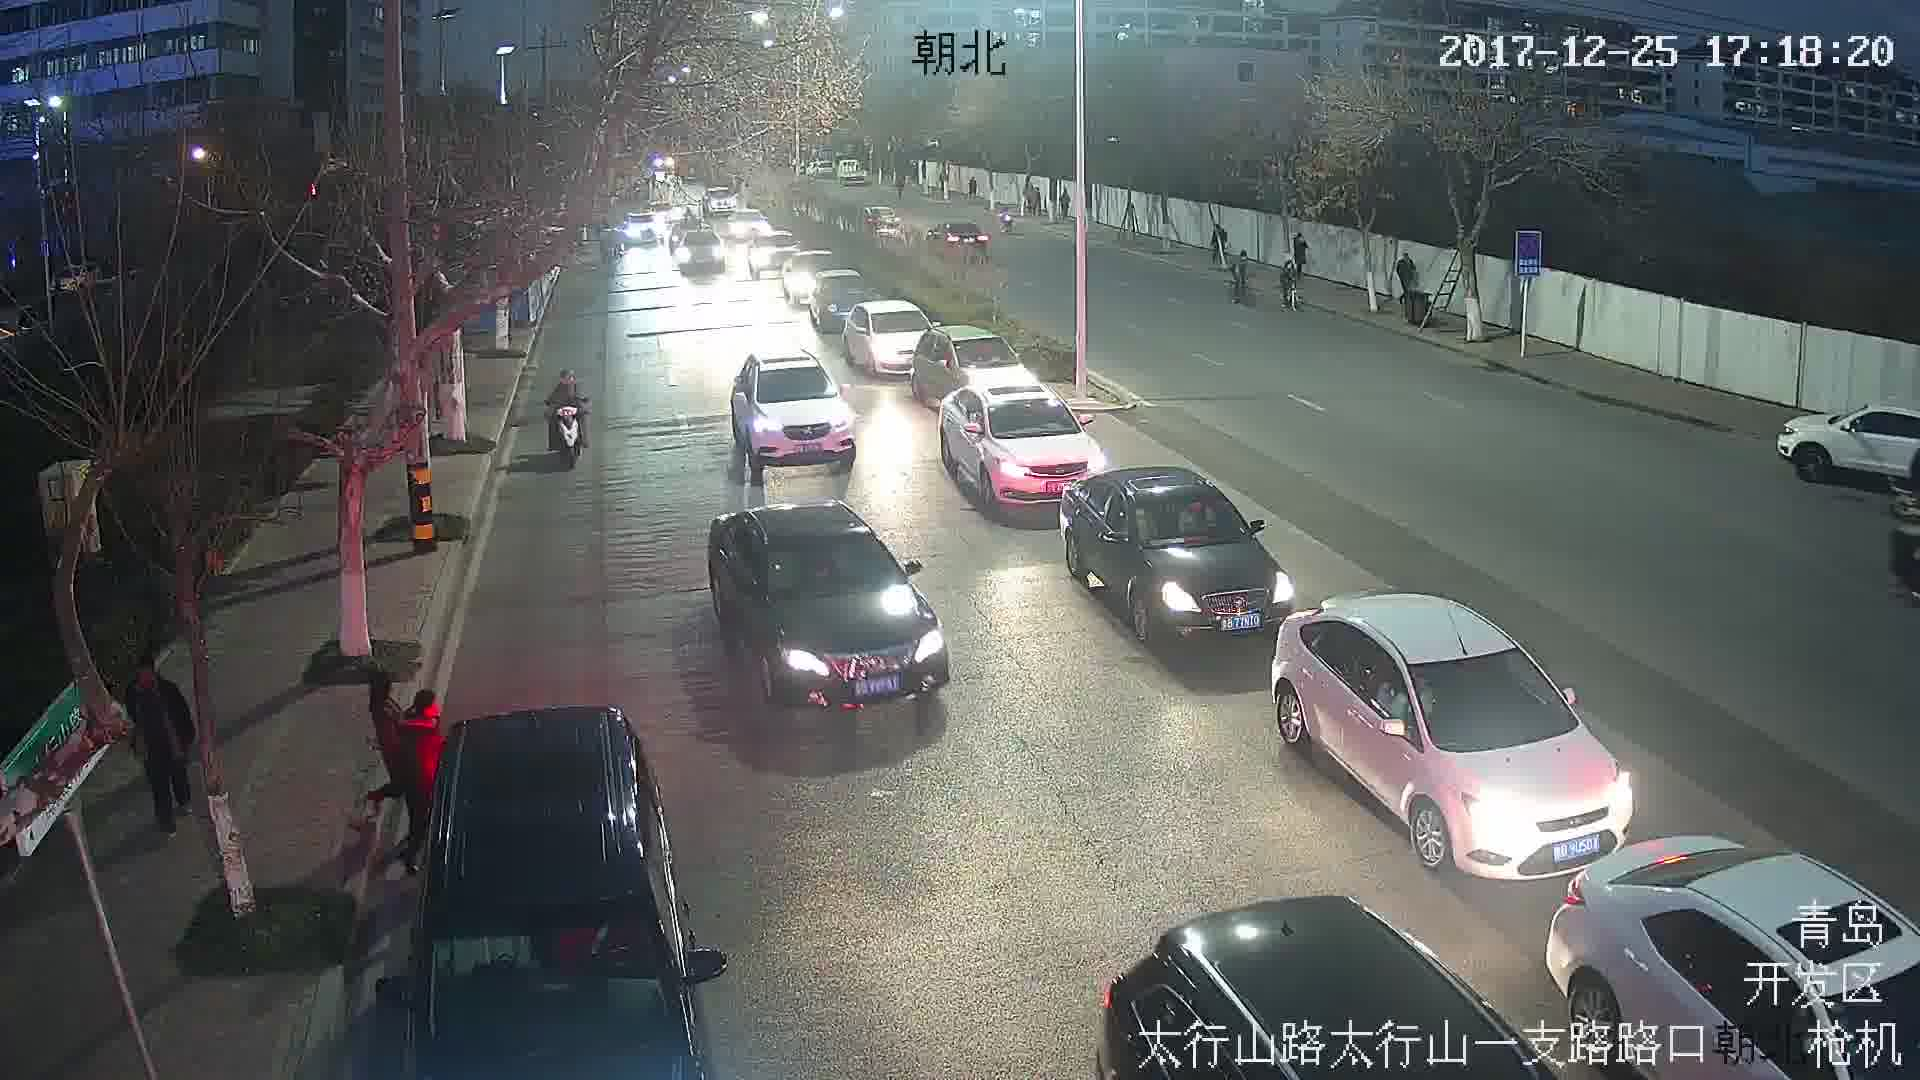car: (1267, 595, 1642, 874), (702, 507, 950, 709), (1073, 470, 1291, 637), (943, 385, 1102, 499), (728, 352, 859, 469)
person: (123, 670, 213, 835), (363, 678, 412, 819), (400, 694, 443, 812), (542, 364, 582, 425)
